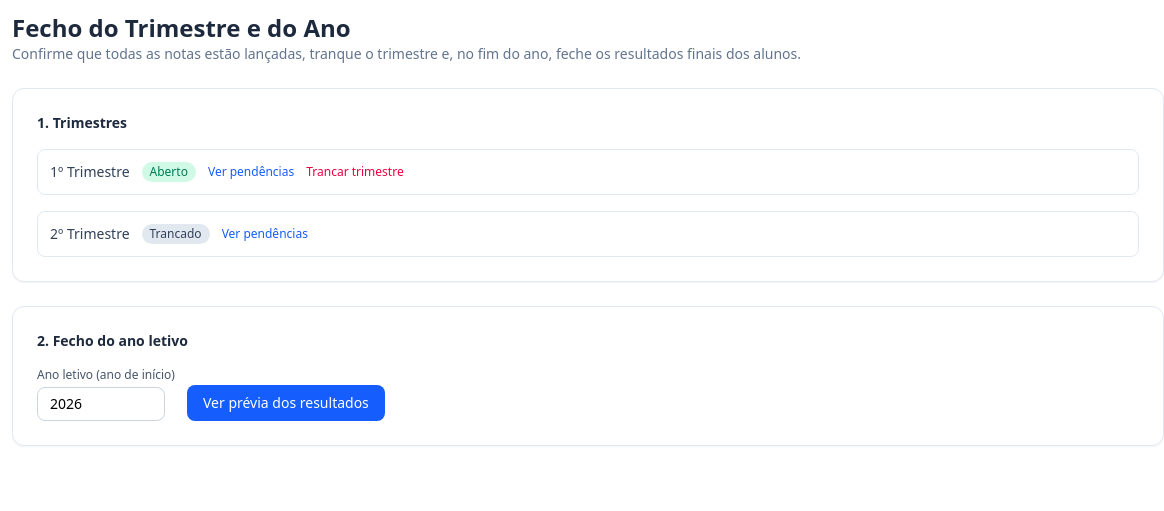
Test: FechoAnoComponent › mostra as pendências do trimestre com turma, disciplina, professor e alunos
This screenshot has width=1164, height=511.
Click the button "Ver pendências" next to "Aberto": (251, 172) [208, 164, 294, 180]
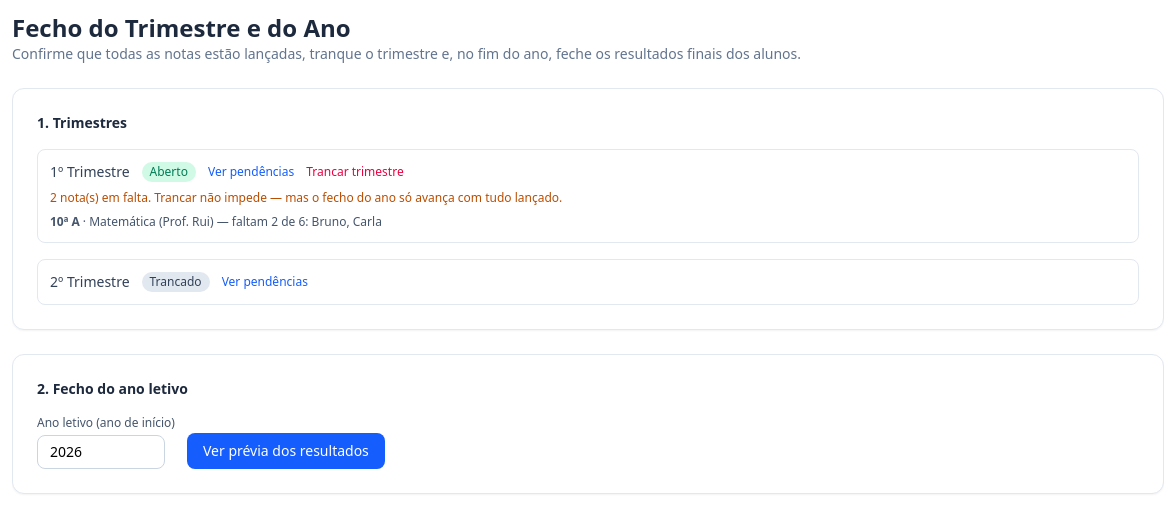
Expected: the text "2 nota(s) em falta" is shown, [50, 189, 562, 206]
Expected: the text "Prof. Rui" is shown, [159, 213, 217, 230]
Expected: the text "Bruno, Carla" is shown, [217, 213, 382, 230]
